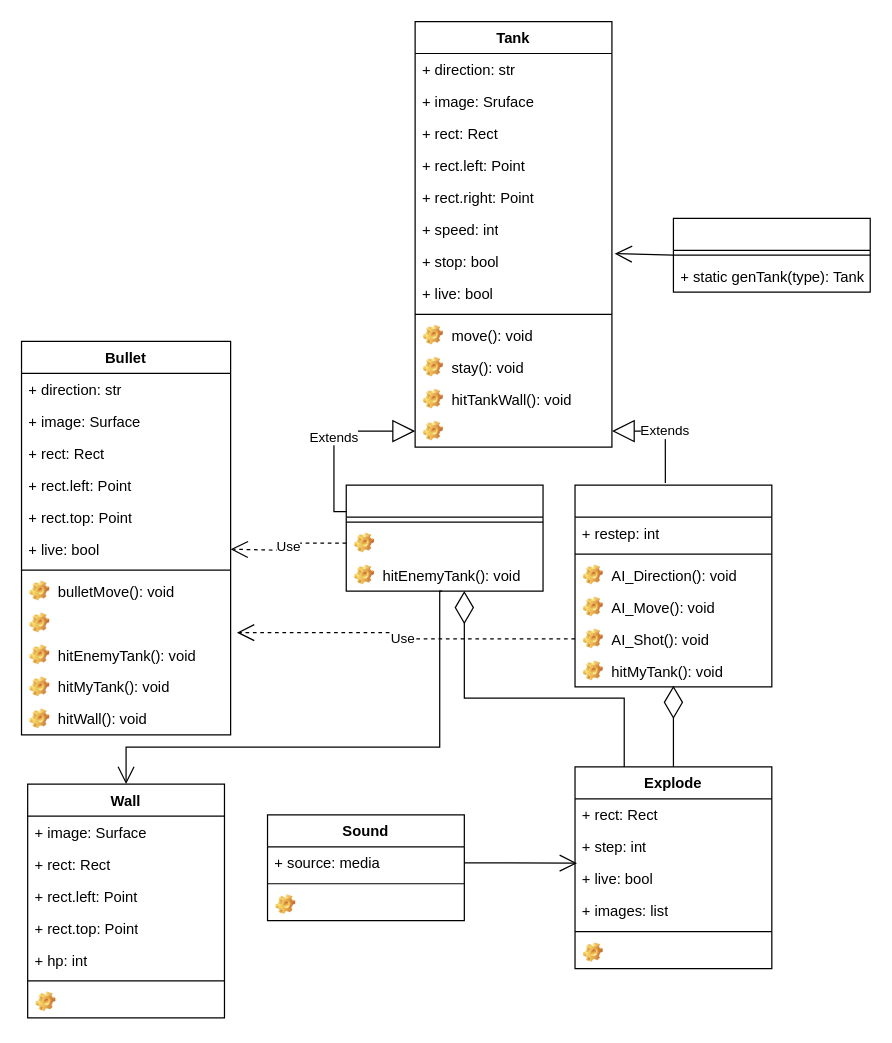
The diagram is 892 pixels wide and 1043 high, and some of its shapes have lost their labels. Each missing label, with the box of its shape:
dispalyWall(): void: (27, 985, 224, 1017)
displayBulet(): void: (21, 606, 230, 638)
displayExplode(): void: (574, 936, 771, 968)
displaySound(): void: (267, 888, 464, 920)
displayTank(): void: (415, 415, 611, 446)
EnemyTank: (574, 484, 772, 687)
PlayerTank: (345, 484, 543, 591)
shot(): void: (346, 526, 542, 558)
TankFactory: (672, 217, 870, 292)
